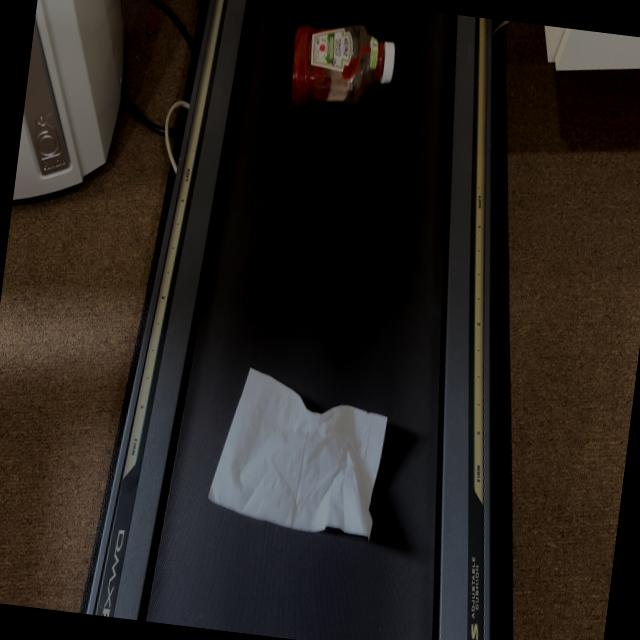Recycle: (210, 370, 390, 560)
Trash: (288, 20, 421, 120)
